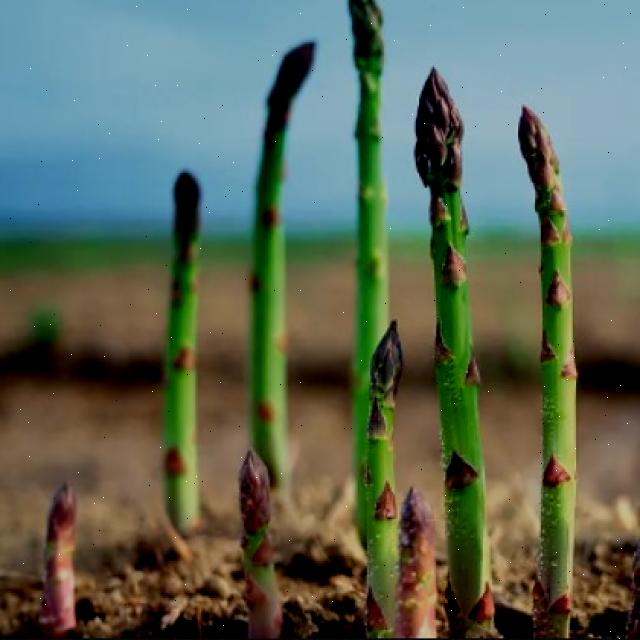aspargus: (416, 71, 495, 625), (517, 106, 578, 640), (248, 40, 317, 489), (161, 172, 201, 531), (239, 450, 285, 640), (39, 482, 77, 640)
